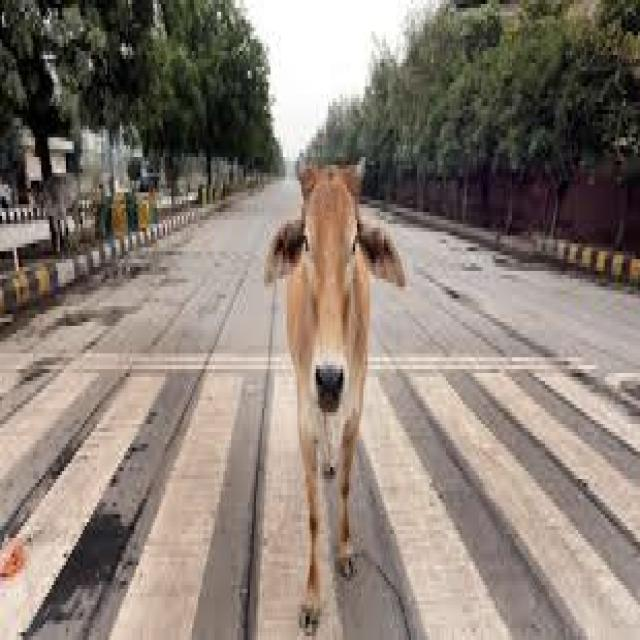cow: (264, 161, 405, 632)
